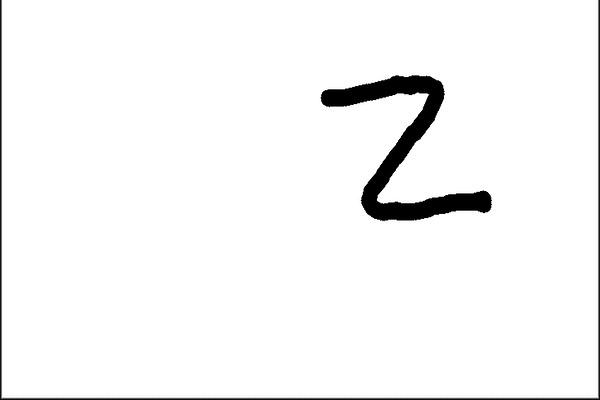Z: (313, 65, 508, 232)
